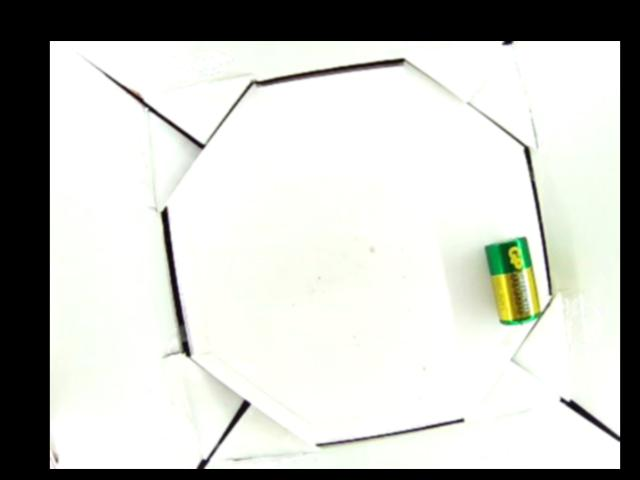Battery: (483, 236, 543, 325)
